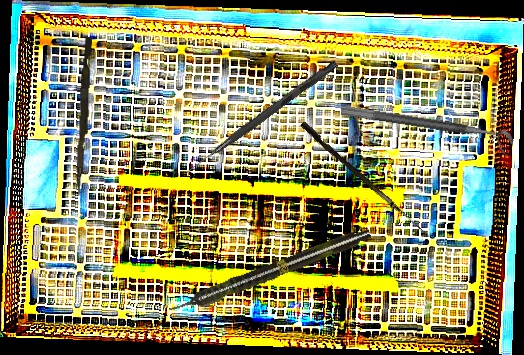Fixation Ring: (338, 104, 515, 157)
Handpiece: (165, 224, 374, 319)
Hook Surgical: (184, 58, 339, 178), (298, 121, 435, 238)
Pusher: (75, 36, 93, 197)
